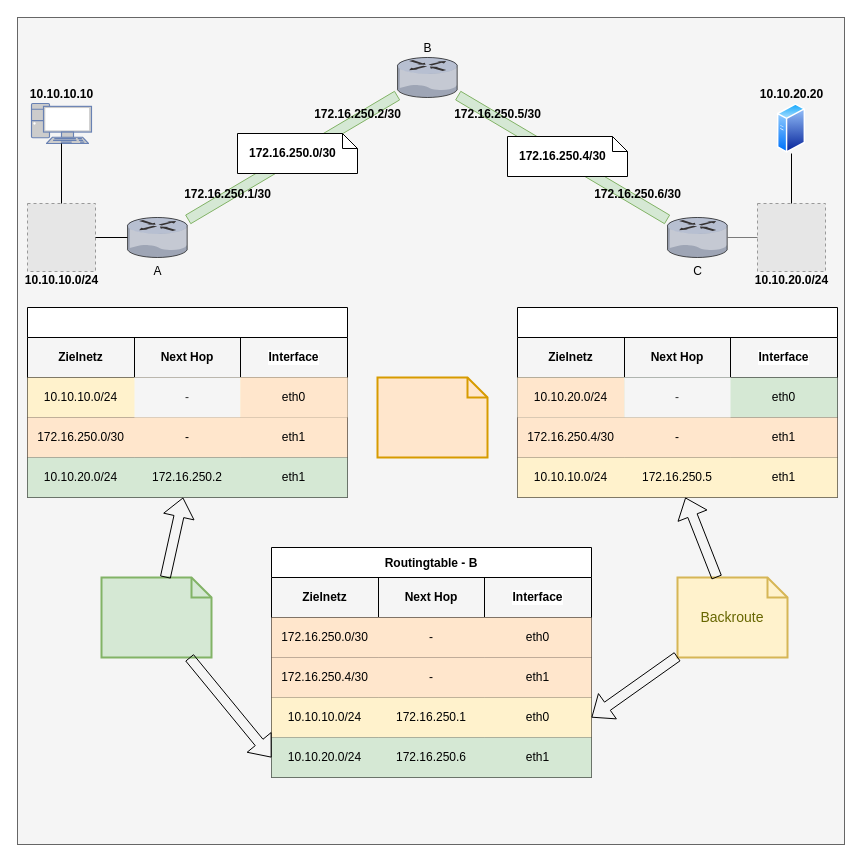
Image size: 862x862. Some labels were removed from this diagram. Grey dashed boxes stand in for pictures. Here are the shapes that lost their labels. From the top down, the box of each, then its label:
(26, 306, 348, 498): Routingtable - A
(376, 376, 488, 458): Direkt Verbunden
(516, 306, 838, 498): Routingtable - C
(100, 576, 212, 658): "Hinroute"
